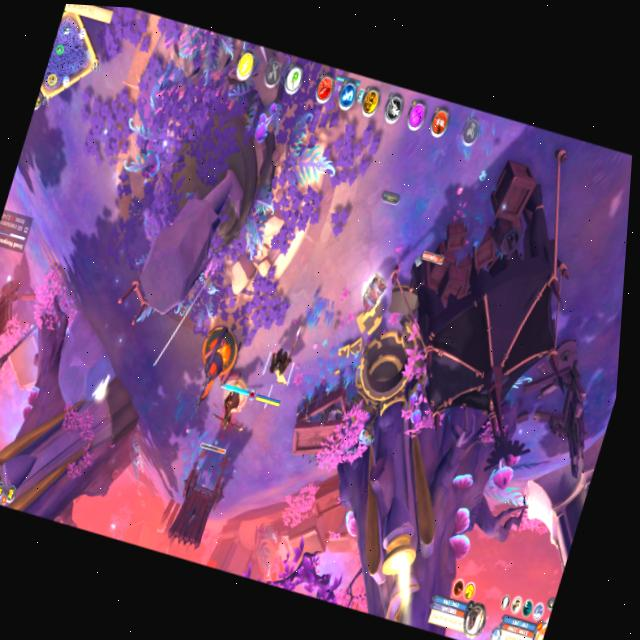ore: (194, 367, 256, 463)
red: (250, 315, 308, 416)
